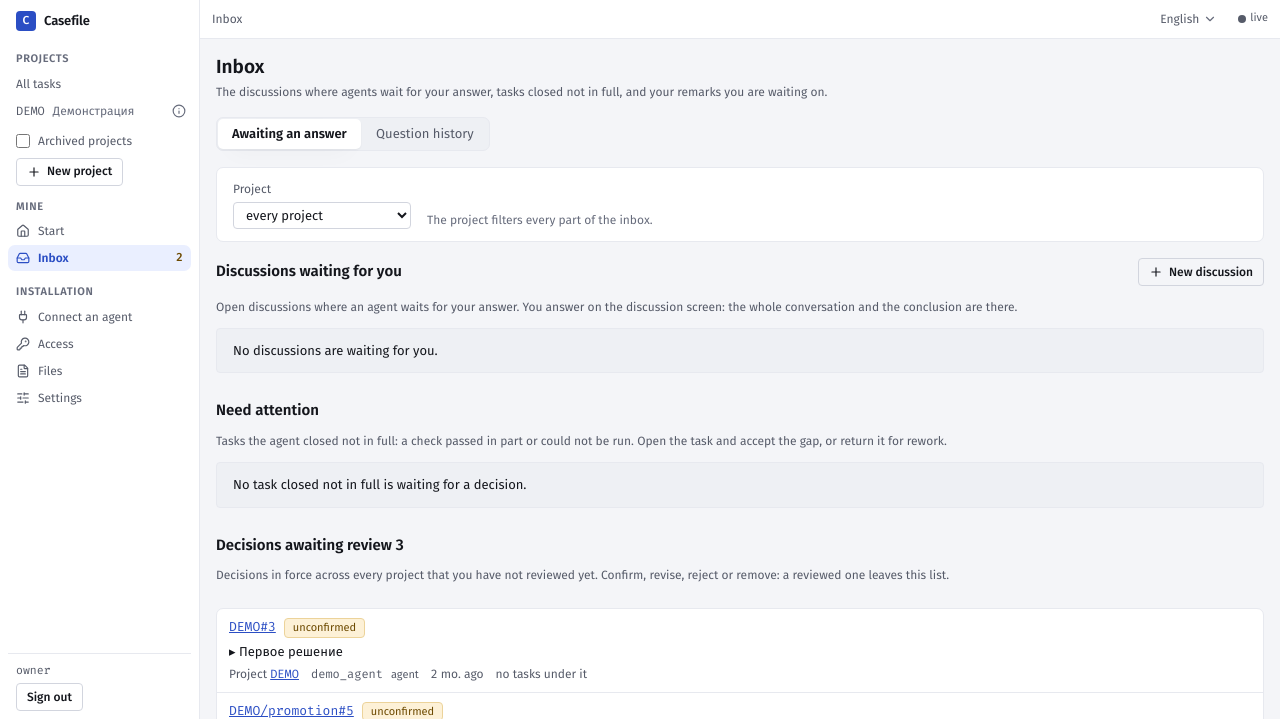
Test: входящая: решения ждут проверки (TRK-759) › «Подтвердить» убирает строку, а число перечитывается
The width and height of the screenshot is (1280, 719).
Click the button "Первое решение" at x=291, y=651, box x1=229 y1=642 x2=1251 y2=661
(page scrolled)
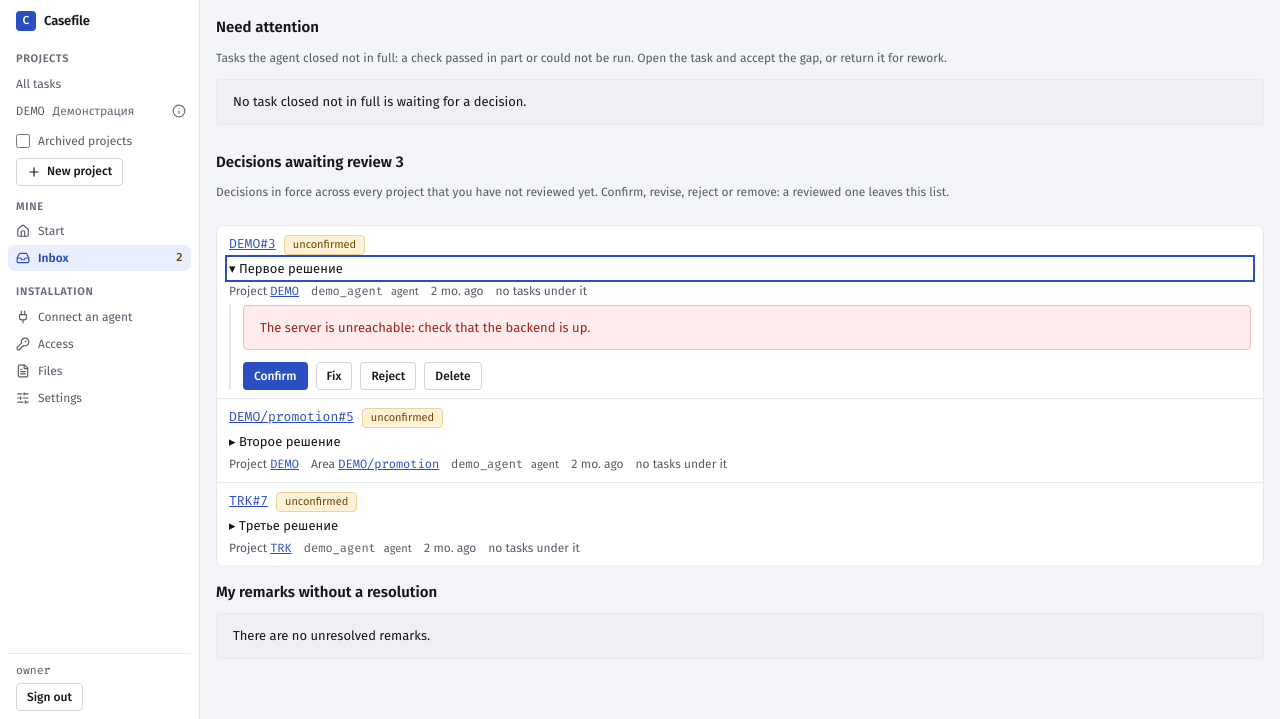
Click the button "Confirm" at x=275, y=376, box x1=243 y1=362 x2=308 y2=390
(page scrolled)
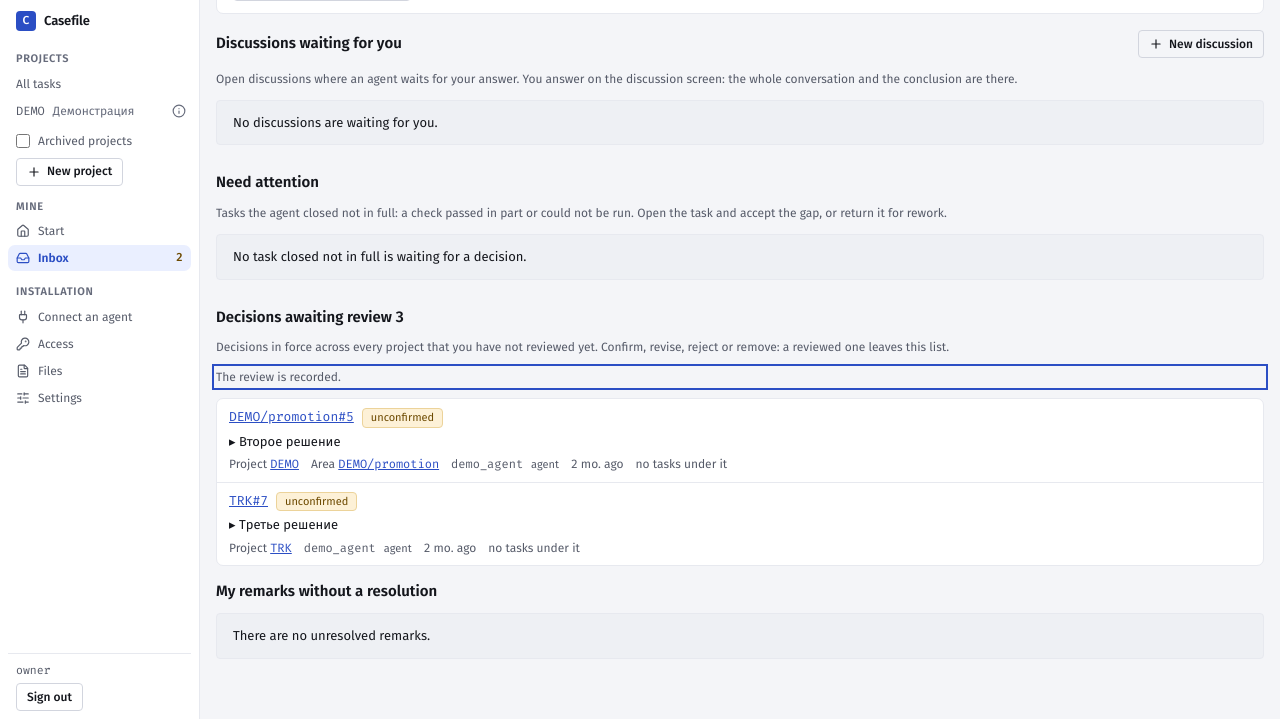
Now the button "Первое решение" is gone
